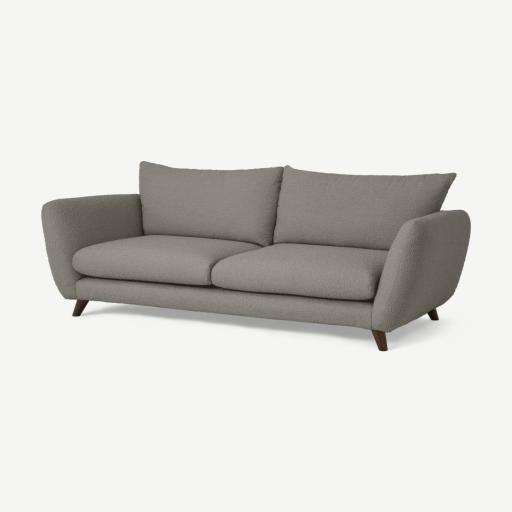back_cushion: (139, 162, 455, 250)
base: (77, 277, 372, 328)
left_arm: (372, 210, 470, 332)
legs: (372, 330, 388, 351), (73, 300, 89, 316), (429, 310, 438, 320)
right_arm: (42, 194, 142, 298)
seat_cushion: (73, 235, 387, 300)
two-seater: (0, 0, 511, 512)
